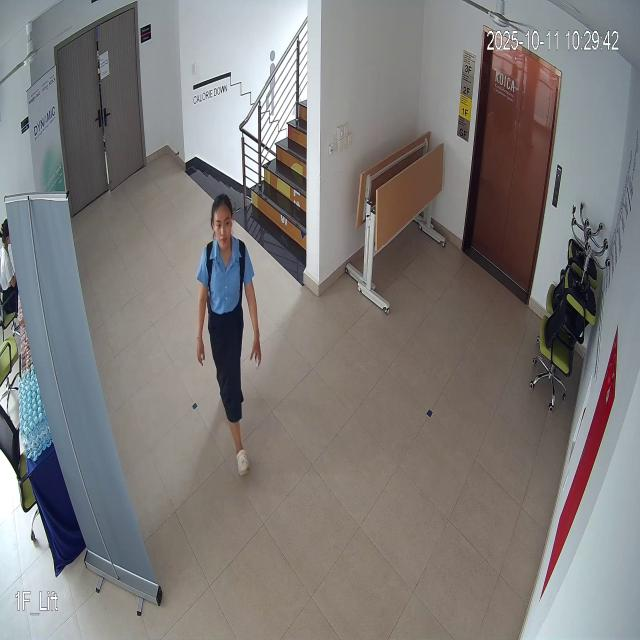face: (208, 191, 236, 255)
